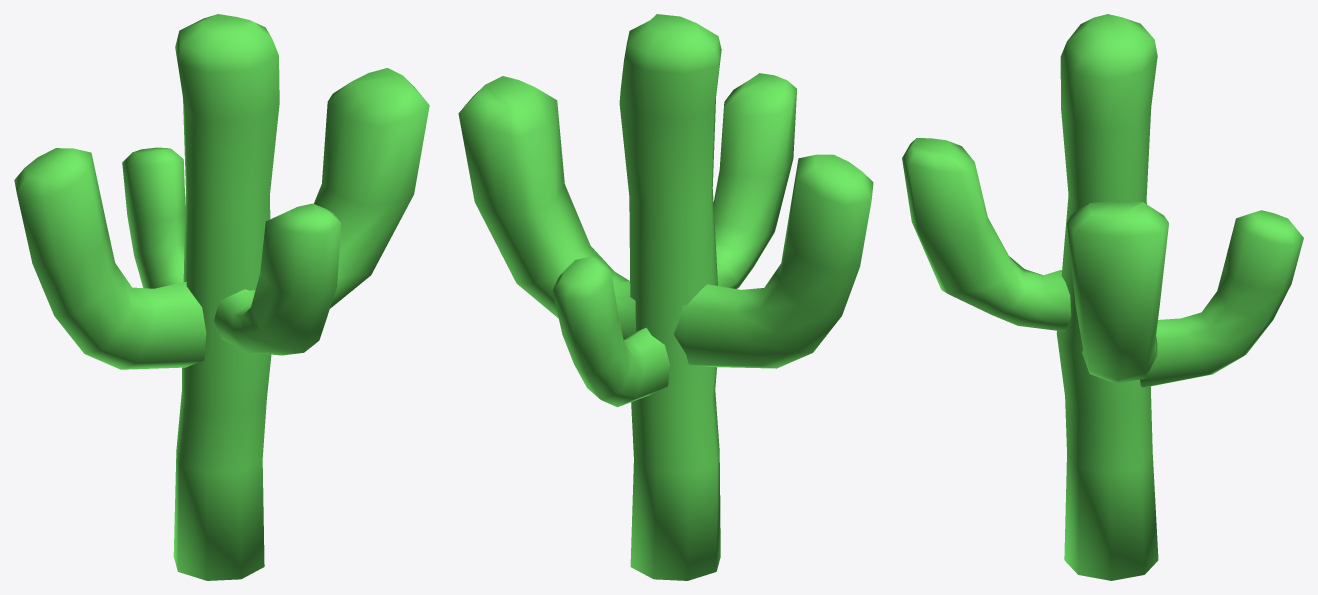
Rendered from Cactus_quad.fbx.
The picture shows the model from 3 angles, left to right: view 1: azimuth 30°, elevation 25°; view 2: azimuth 150°, elevation 25°; view 3: azimuth 270°, elevation 25°; orthographic projection.
Visible parts, largest first — view 1: Cactus_quad; view 2: Cactus_quad; view 3: Cactus_quad.
Boxes of the visible parts, x1,y1,x2,y2 form: Cactus_quad: (14, 14, 429, 580); Cactus_quad: (458, 14, 873, 580); Cactus_quad: (902, 14, 1303, 580).
Bounding box in the file's own units: 270 × 348 × 235.
